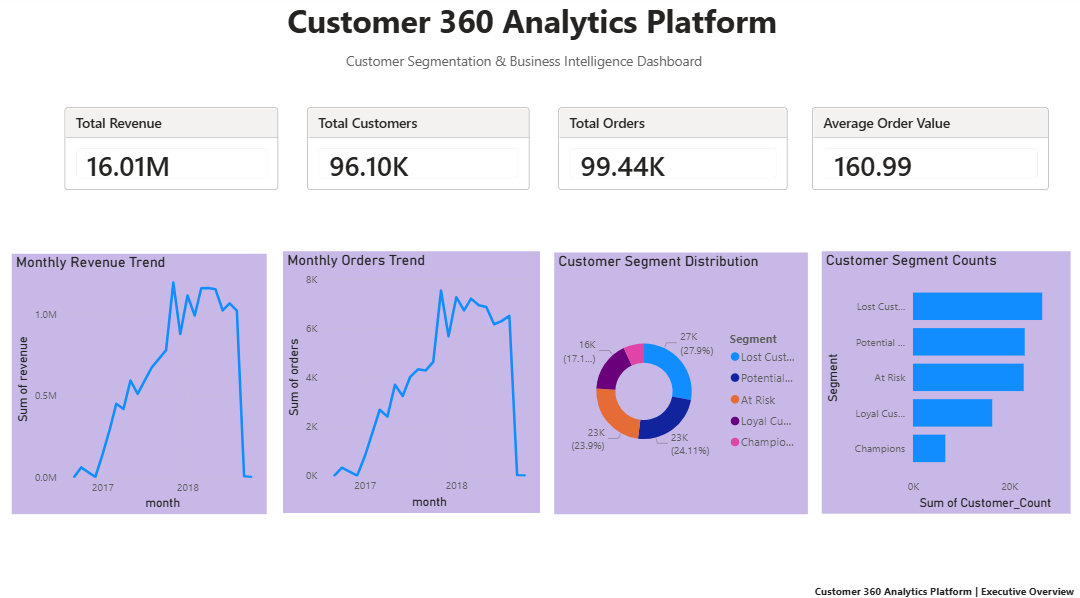

The dashboard page shown, as its layout file describes it:
{"tool":"powerbi","page":{"name":"Executive Overview","canvas":[1280,720],"ordinal":0},"visuals":[{"type":"lineChart","title":"Monthly Revenue Trend","fields":{"Y":["Sum(revenue_trend.revenue)"],"Category":["revenue_trend.month"]},"box":[16.5,304.6,300.5,307.4],"z":0},{"type":"lineChart","title":"Monthly Orders Trend","fields":{"Y":["Sum(orders_trend.orders)"],"Category":["orders_trend.month"]},"box":[336.2,301.9,303.3,308.7],"z":1000},{"type":"donutChart","title":"Customer Segment Distribution","fields":{"Category":["customer_segments.Segment"],"Y":["Sum(customer_segments.Customer_Count)"]},"box":[655.9,303.3,299.1,308.7],"z":2000},{"type":"clusteredBarChart","title":"Customer Segment Counts","fields":{"Category":["customer_segments.Segment"],"Y":["Sum(customer_segments.Customer_Count)"]},"box":[978.4,300.5,292.3,310.1],"z":3000},{"type":"textbox","box":[260.7,0,694.3,61.7],"z":4000},{"type":"textbox","box":[381.5,61.7,452.8,38.4],"z":5000},{"type":"cardVisual","fields":{"Data":["Sum(kpi_summary.Value)"],"Rows":["kpi_summary.Metric"]},"box":[85.1,107,263.5,148.2],"z":6000},{"type":"cardVisual","fields":{"Data":["Sum(kpi_summary.Value)"],"Rows":["kpi_summary.Metric"]},"box":[367.8,107,271.7,148.2],"z":7000},{"type":"cardVisual","fields":{"Data":["Sum(kpi_summary.Value)"],"Rows":["kpi_summary.Metric"]},"box":[665.5,107,279.9,148.2],"z":8000},{"type":"cardVisual","fields":{"Data":["Sum(kpi_summary.Value)"],"Rows":["kpi_summary.Metric"]},"box":[964.7,107,288.2,148.2],"z":9000}]}

Visuals, with their boxes in screenshot pixels (x1, y1, x2, y2), scaled from the page's 1280x720 canvas onto the 1080x598 screenshot:
"Monthly Revenue Trend" lineChart: 14, 253, 267, 508
"Monthly Orders Trend" lineChart: 284, 251, 540, 507
"Customer Segment Distribution" donutChart: 553, 252, 806, 508
"Customer Segment Counts" clusteredBarChart: 826, 250, 1072, 507
textbox: 220, 0, 806, 51
textbox: 322, 51, 704, 83
cardVisual - Sum(kpi_summary.Value) x kpi_summary.Metric: 72, 89, 294, 212
cardVisual - Sum(kpi_summary.Value) x kpi_summary.Metric: 310, 89, 540, 212
cardVisual - Sum(kpi_summary.Value) x kpi_summary.Metric: 562, 89, 798, 212
cardVisual - Sum(kpi_summary.Value) x kpi_summary.Metric: 814, 89, 1057, 212
